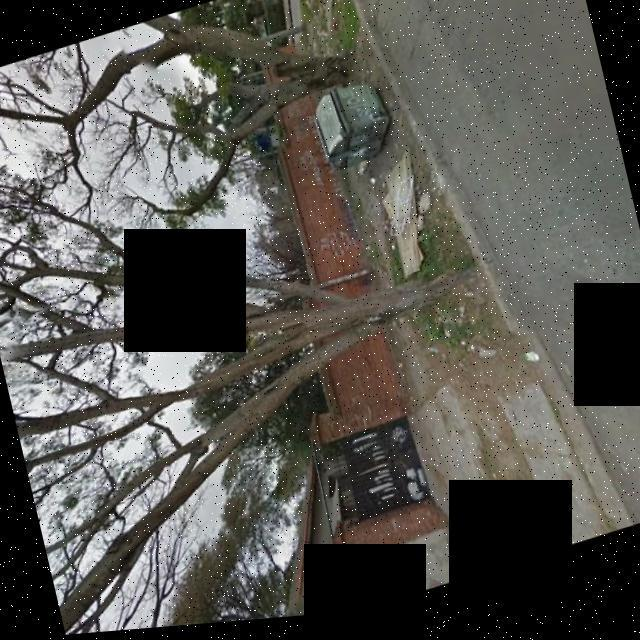bin: (295, 68, 405, 195)
